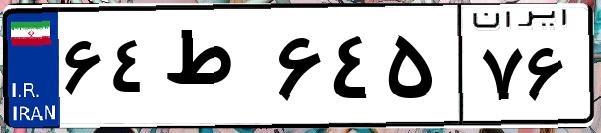4: (330, 28, 385, 110), (110, 28, 158, 98)
5: (385, 28, 445, 110)
6: (270, 28, 330, 110), (57, 26, 110, 100), (525, 38, 570, 115)
7: (475, 38, 525, 113)
ط: (158, 20, 270, 120)
